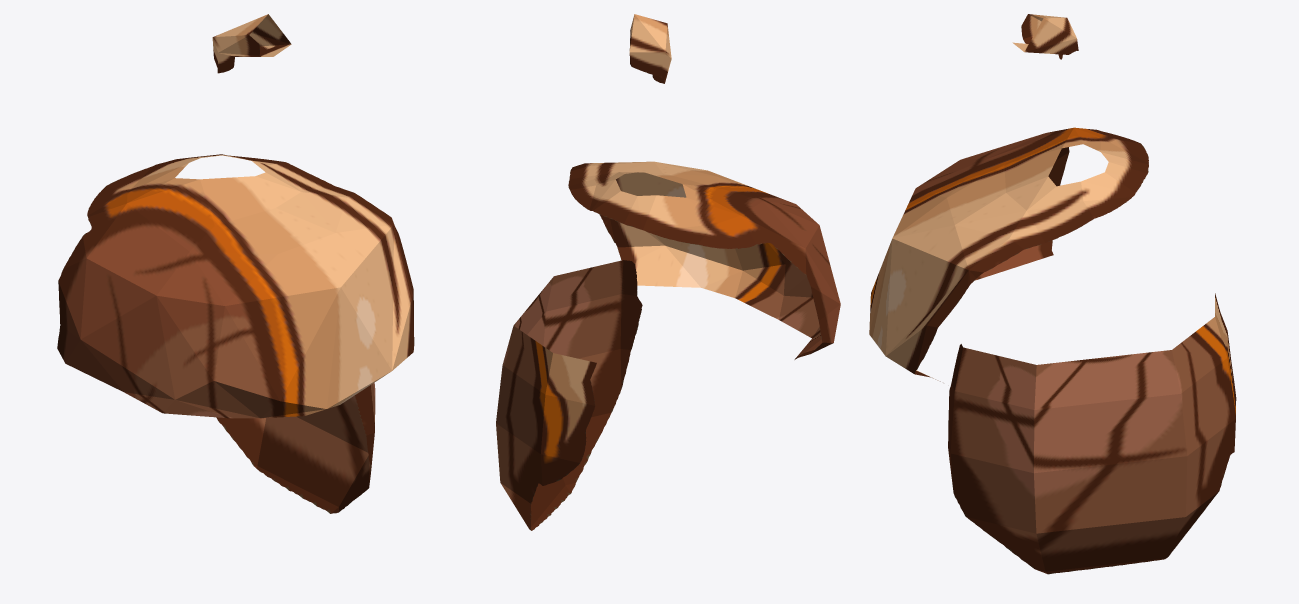
The model's file is acorn.obj.
3 views of the same model, side by side, from view 1: azimuth 30°, elevation 25°; view 2: azimuth 150°, elevation 25°; view 3: azimuth 270°, elevation 25° (orthographic). The views are drawn at different scales.
Parts seen in each view (by area): view 1: Object_acmat_0_0; view 2: Object_acmat_0_0; view 3: Object_acmat_0_0.
Boxes of the visible parts, left/top/right/bottom form: Object_acmat_0_0: left=57, top=14, right=414, bottom=513; Object_acmat_0_0: left=496, top=14, right=840, bottom=530; Object_acmat_0_0: left=869, top=14, right=1236, bottom=574.
Size of the model in its own units: 1.58 by 2.5 by 1.6.
